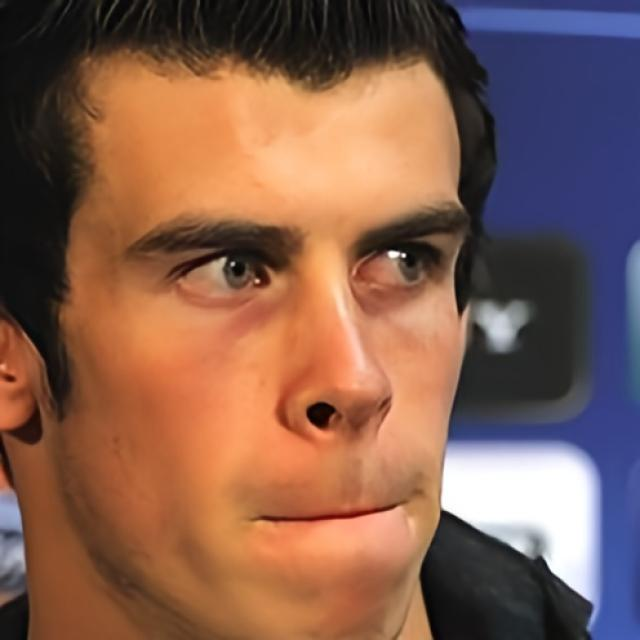anger: (61, 54, 476, 640)
